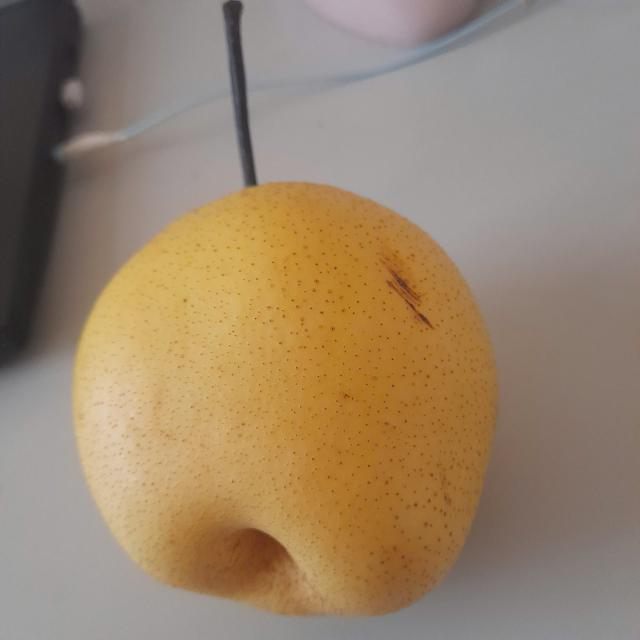Le: (66, 0, 515, 630)
